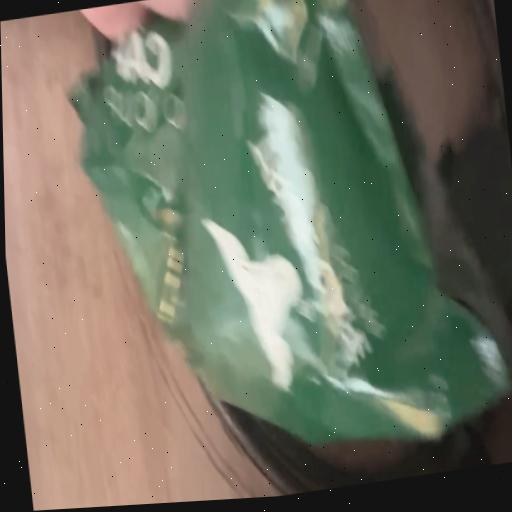cafe_xay: (72, 0, 512, 486)
